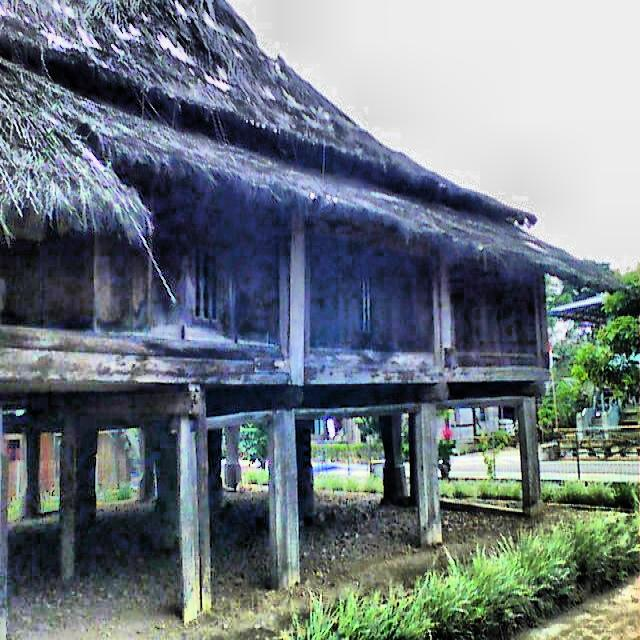column: (179, 393, 212, 622), (270, 409, 300, 589), (62, 430, 98, 579), (416, 404, 442, 544), (518, 397, 540, 513), (379, 414, 408, 501), (296, 420, 315, 515), (25, 432, 40, 516), (207, 428, 223, 506), (224, 426, 241, 487), (409, 413, 418, 505)
roof: (0, 1, 627, 293)
wall: (1, 151, 549, 384)
window: (194, 239, 217, 321), (360, 276, 371, 332)
